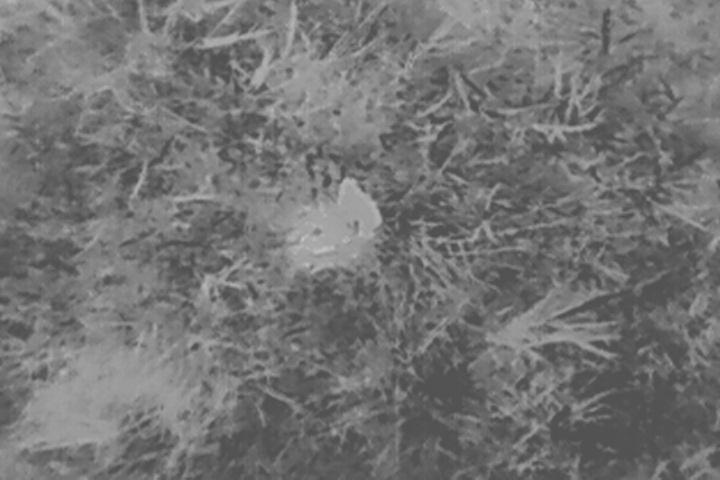landmine: (285, 179, 381, 265)
